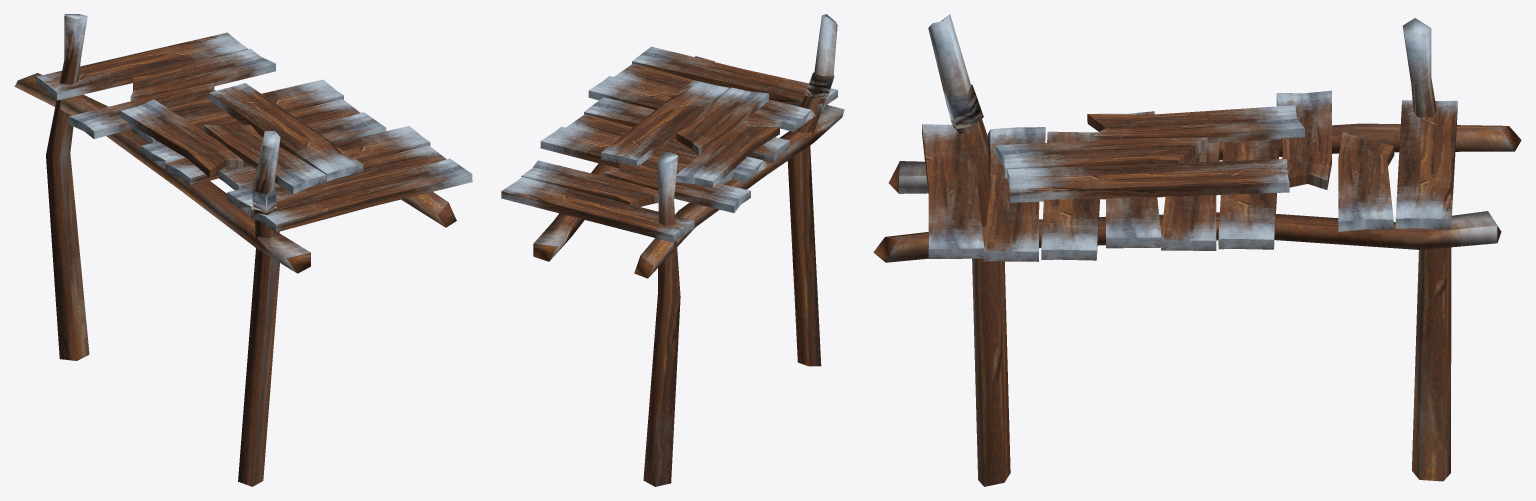
File: Ice_wood05.FBX
3 renders of one model, left to right at view 1: azimuth 30°, elevation 25°; view 2: azimuth 150°, elevation 25°; view 3: azimuth 270°, elevation 25°, orthographic. The views are drawn at different scales.
Parts seen in each view (by area): view 1: 10205_wood007; view 2: 10205_wood007; view 3: 10205_wood007.
Boxes of the visible parts, <box> form: 10205_wood007: <box>14,14,472,486</box>; 10205_wood007: <box>501,14,844,486</box>; 10205_wood007: <box>873,14,1521,486</box>.
Bounding box in the file's own units: 483 × 674 × 848.
